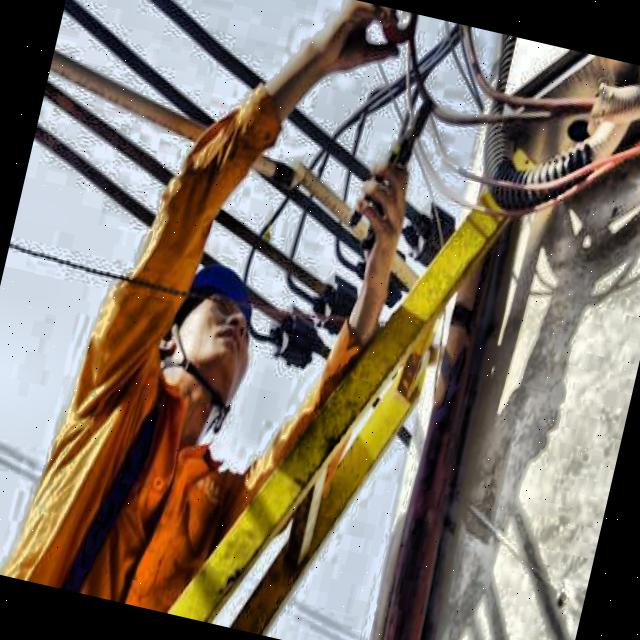helmet: (138, 237, 284, 464)
